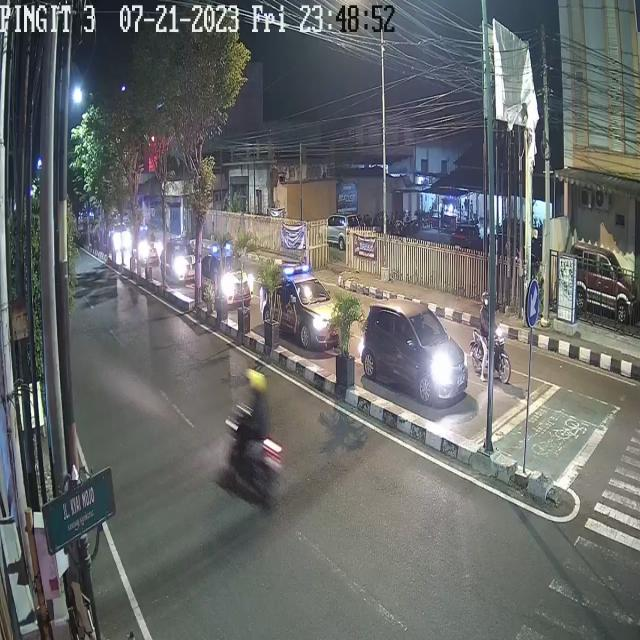car: (362, 304, 465, 406), (261, 266, 341, 352), (198, 250, 250, 314), (161, 237, 200, 284), (132, 223, 162, 271), (107, 222, 129, 257)
motorcycle: (223, 358, 281, 510), (470, 288, 512, 386)
